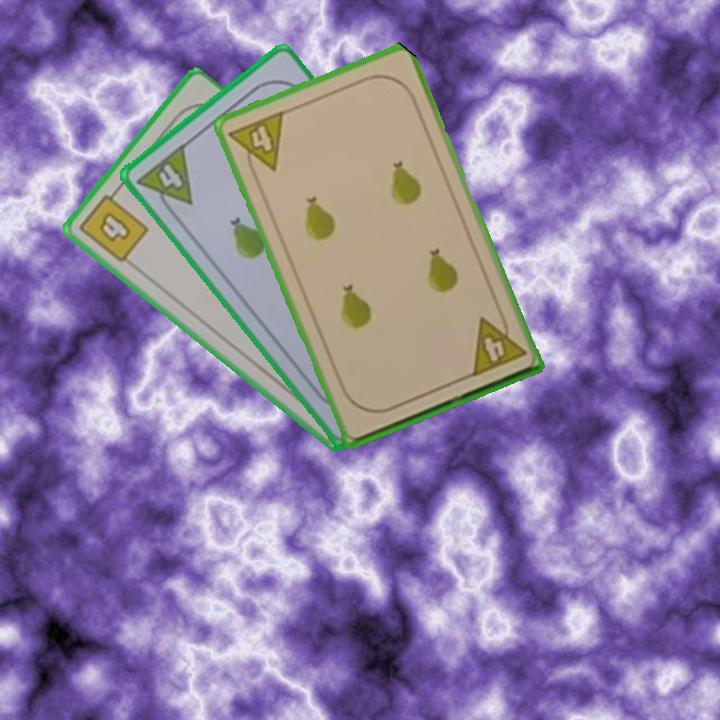4b: (75, 184, 151, 266)
4p: (133, 140, 196, 221), (225, 107, 287, 181), (467, 307, 529, 380)
